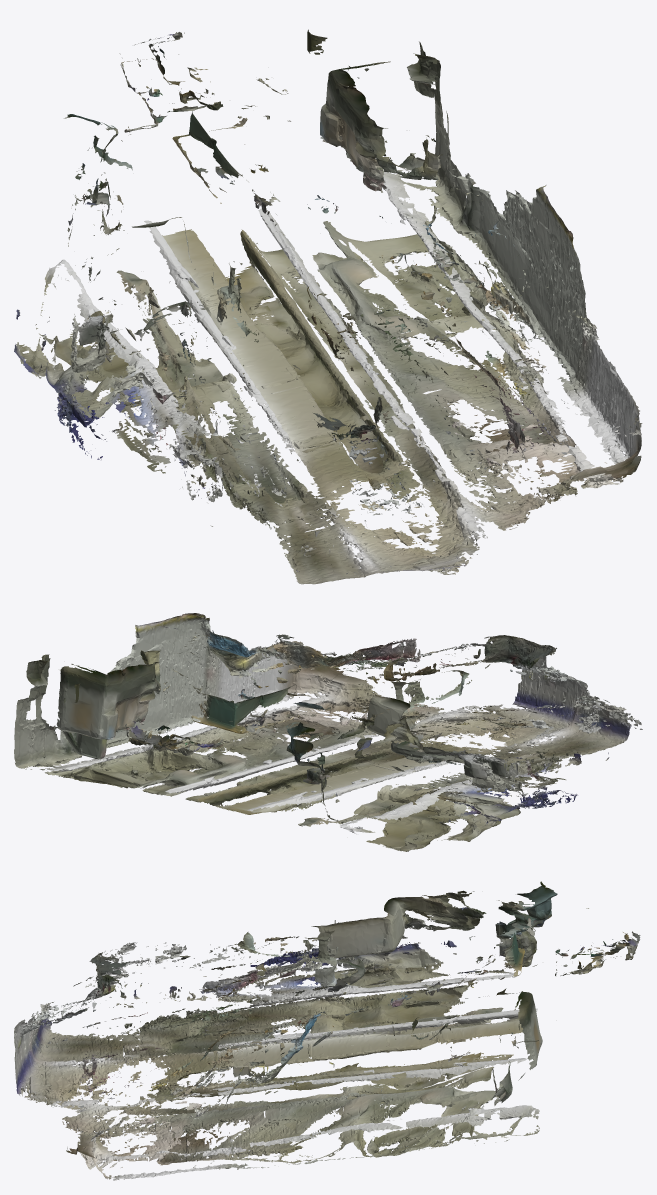
The model's file is room-1.glb.
The picture shows the model from 3 angles, top to bottom: view 1: azimuth 30°, elevation 25°; view 2: azimuth 150°, elevation 25°; view 3: azimuth 270°, elevation 25°; orthographic projection. The views are drawn at different scales.
Parts seen in each view (by area): view 1: geometry_0; view 2: geometry_0; view 3: geometry_0.
Part boxes in pixels (left/top/right/bottom): geometry_0: left=14, top=29, right=642, bottom=584; geometry_0: left=14, top=613, right=642, bottom=851; geometry_0: left=14, top=881, right=640, bottom=1180.
Size of the model in its own units: 14.78 by 6.85 by 19.3.
